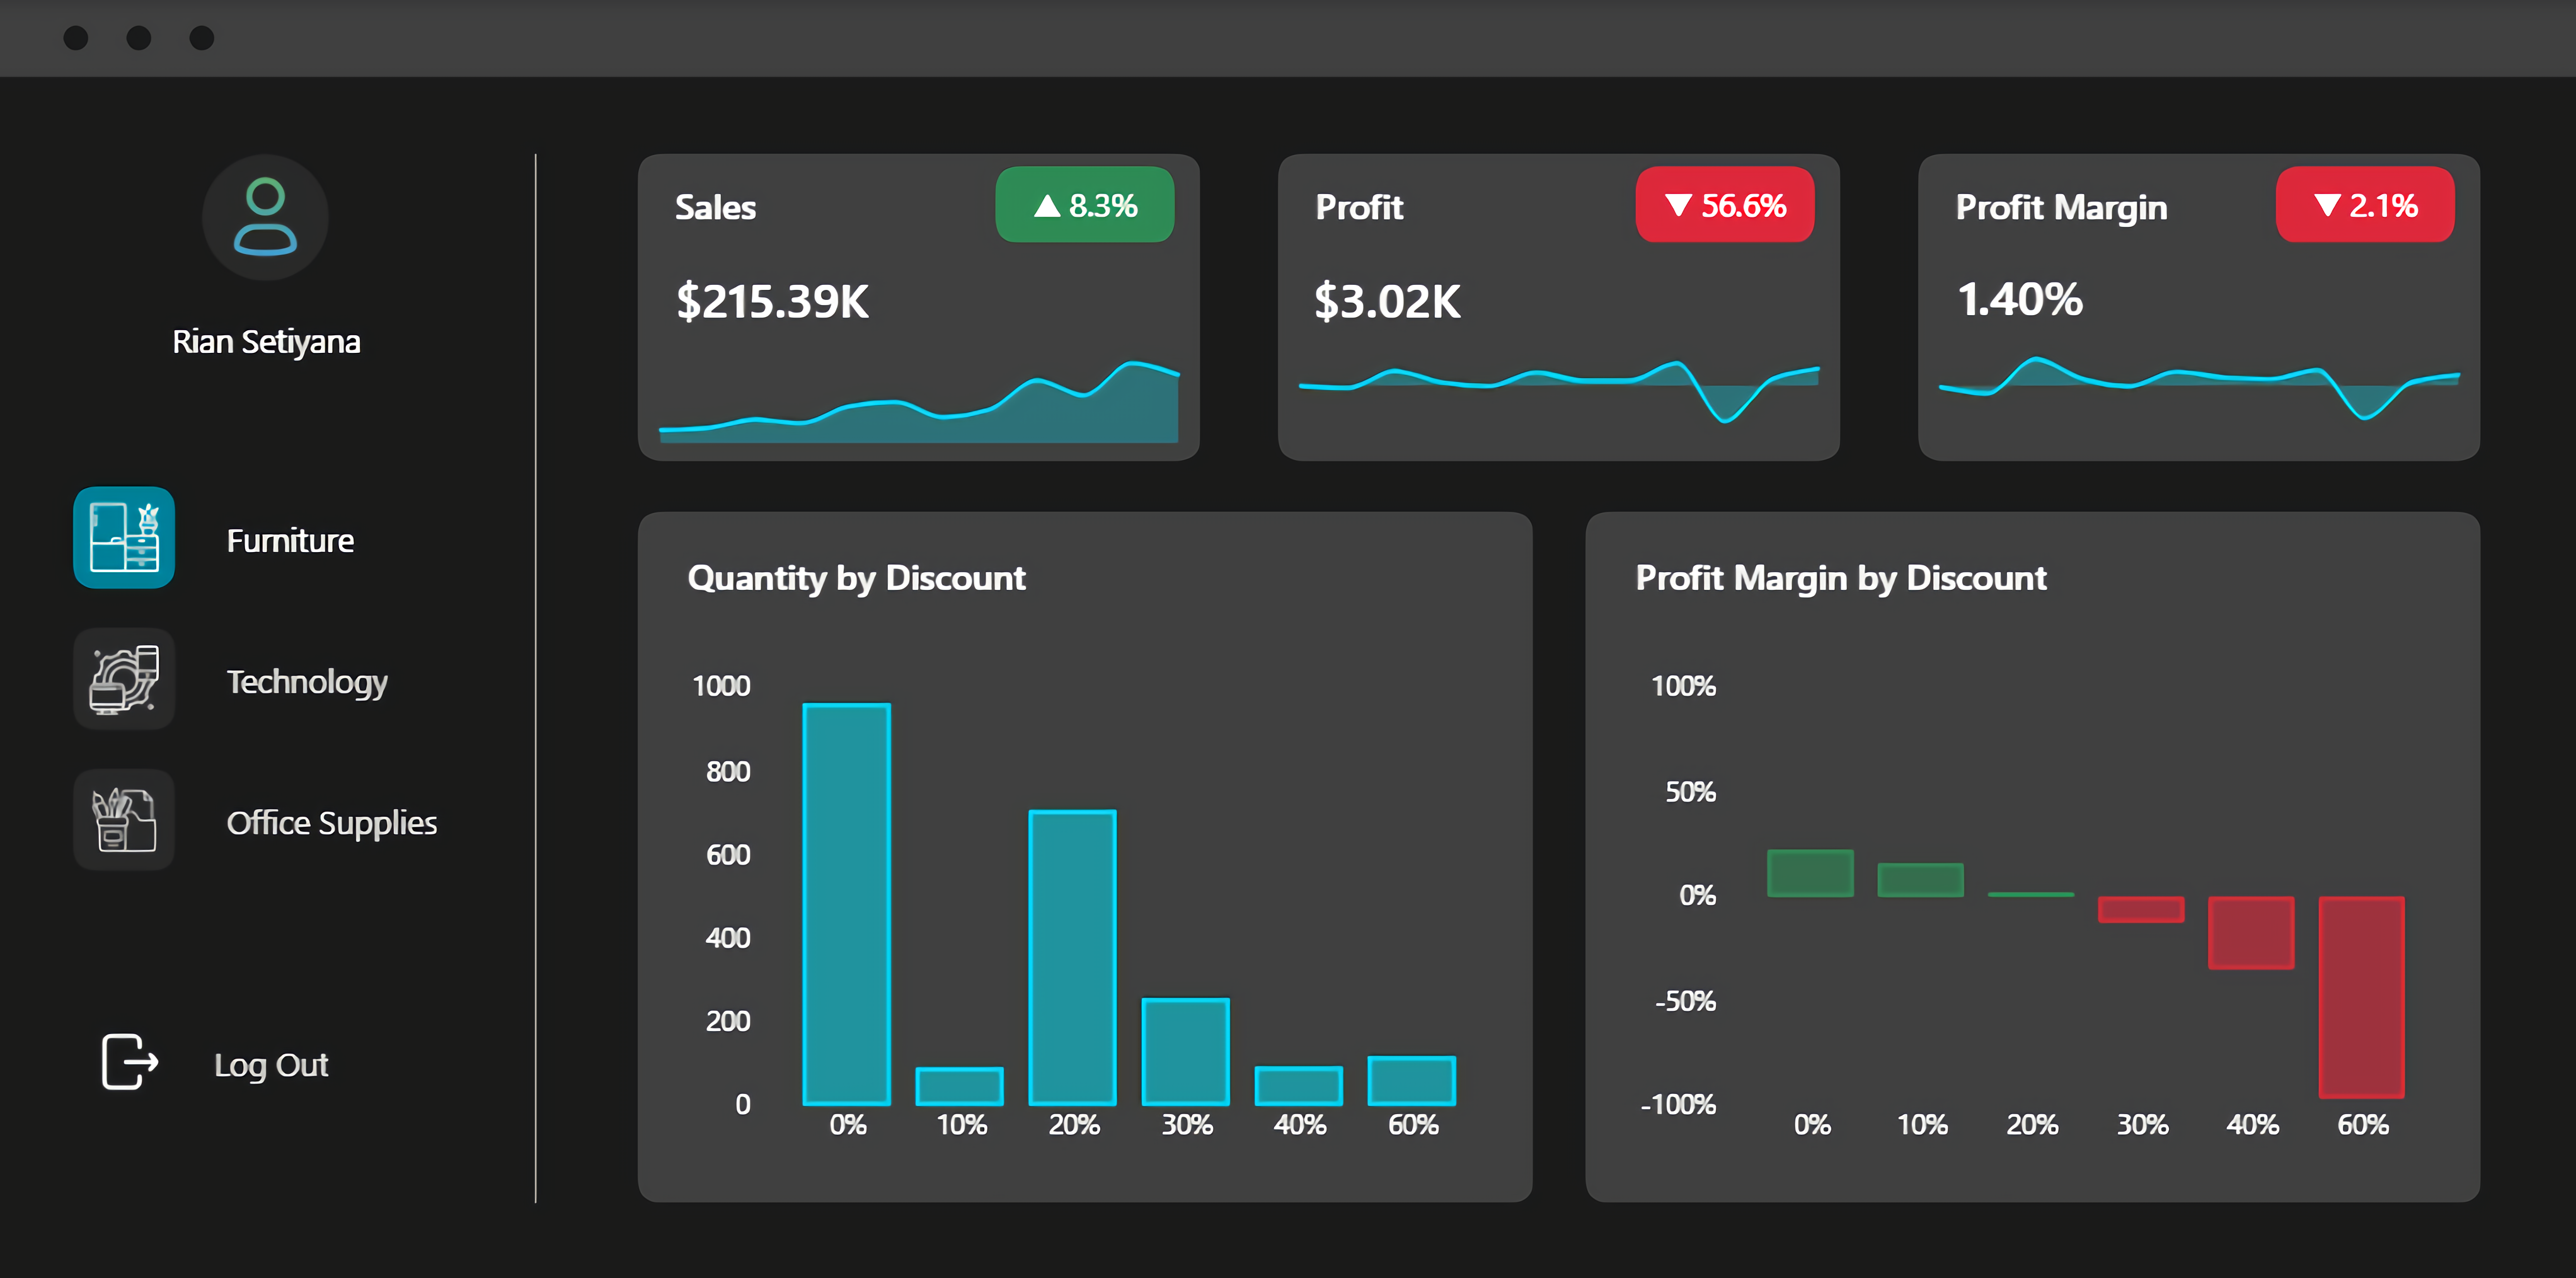

Layout of this report page (visuals, bound fields, positions):
{"tool":"powerbi","page":{"name":"My Dashboard","canvas":[3225,1600],"ordinal":0},"visuals":[{"type":"group","id":"g1","title":"Furniture","box":[-7,0,3232,1504],"z":0},{"type":"group","id":"g2","title":"Top Header","box":[-7,0,3232,96],"z":0,"group":"g1"},{"type":"shape","title":"Background","box":[-7,0,3232,96],"z":0,"group":"g2"},{"type":"shape","title":"Background","box":[256,192,160,160],"z":0,"group":"g5"},{"type":"group","id":"g3","title":"Sales","box":[800,192,704,384],"z":0,"group":"g12"},{"type":"shape","title":"Background","box":[800,192,704,384],"z":0,"group":"g3"},{"type":"shape","title":"Background","box":[1600,192,704,384],"z":0,"group":"g6"},{"type":"shape","title":"Background","box":[2400,192,704,384],"z":0,"group":"g10"},{"type":"group","id":"g4","title":"Furniture","box":[80,608,528,128],"z":0,"group":"g9"},{"type":"shape","title":"Background","box":[96,608,128,128],"z":0,"group":"g4"},{"type":"shape","title":"Background","box":[800,640,1120,864],"z":0,"group":"g7"},{"type":"shape","title":"Background","box":[1984,640,1120,864],"z":0,"group":"g13"},{"type":"shape","title":"Background","box":[96,784,128,128],"z":0,"group":"g8"},{"type":"shape","title":"Background","box":[96,960,128,128],"z":0,"group":"g11"},{"type":"image","title":"Icon","box":[128,1280,80,96],"z":0,"group":"g14"},{"type":"shape","title":"Circle","box":[80,32,32,32],"z":1000,"group":"g2"},{"type":"group","id":"g5","title":"Profile","box":[192,184,288,280],"z":1000,"group":"g1"},{"type":"image","title":"Profile Picture","box":[272,184,128,176],"z":1000,"group":"g5"},{"type":"group","id":"g6","title":"Profit","box":[1600,192,704,384],"z":1000,"group":"g12"},{"type":"shape","title":"Title","box":[848,208,304,96],"z":1000,"group":"g3"},{"type":"shape","title":"Title","box":[1648,208,304,96],"z":1000,"group":"g6"},{"type":"shape","title":"Title","box":[2448,208,304,96],"z":1000,"group":"g10"},{"type":"image","title":"Icon","box":[80,624,160,96],"z":1000,"group":"g4"},{"type":"group","id":"g7","title":"Quantity Bar","box":[800,640,1120,864],"z":1000},{"type":"shape","title":"Title","box":[864,672,496,96],"z":1000,"group":"g7"},{"type":"shape","title":"Title","box":[2048,672,640,96],"z":1000,"group":"g13"},{"type":"group","id":"g8","title":"Technology","box":[96,784,512,128],"z":1000,"group":"g9"},{"type":"image","title":"Icon","box":[112,792,96,112],"z":1000,"group":"g8"},{"type":"image","title":"Icon","box":[96,976,128,96],"z":1000,"group":"g11"},{"type":"shape","title":"Title","box":[272,1264,320,128],"z":1000,"group":"g14"},{"type":"shape","title":"Circle","box":[160,32,32,32],"z":2000,"group":"g2"},{"type":"group","id":"g9","title":"Navigation","box":[80,192,656,1312],"z":2000,"group":"g1"},{"type":"group","id":"g10","title":"Profit Margin","box":[2400,192,704,384],"z":2000,"group":"g12"},{"type":"card","title":"Card","fields":{"Values":["Measure.profit_margin_furniture_2017"]},"box":[2408,296,240,144],"z":2000,"group":"g10"},{"type":"card","title":"Card","fields":{"Values":["Measure.sales_furniture_2017"]},"box":[800,304,336,128],"z":2000,"group":"g3"},{"type":"card","title":"Card","fields":{"Values":["Measure.profit_furniture_2017"]},"box":[1600,304,272,128],"z":2000,"group":"g6"},{"type":"shape","title":"Name","box":[192,384,288,80],"z":2000,"group":"g5"},{"type":"shape","title":"Title","box":[288,608,320,128],"z":2000,"group":"g4"},{"type":"shape","title":"Title","box":[288,784,320,128],"z":2000,"group":"g8"},{"type":"clusteredColumnChart","title":"Bar Chart","fields":{"Category":["superstore.discount_text"],"Y":["Measure.quantity_furniture_2017"]},"box":[864,832,1024,608],"z":2000},{"type":"group","id":"g11","title":"Office Supplies","box":[96,960,512,128],"z":2000,"group":"g9"},{"type":"shape","title":"Title","box":[288,960,320,128],"z":2000,"group":"g11"},{"type":"shape","title":"Circle","box":[240,32,32,32],"z":3000,"group":"g2"},{"type":"group","id":"g12","title":"KPI","box":[800,192,2304,384],"z":3000,"group":"g1"},{"type":"shape","title":"Background-CF","box":[1248,208,224,96],"z":3000,"group":"g3"},{"type":"shape","title":"Background-CF","box":[2048,208,224,96],"z":3000,"group":"g6"},{"type":"shape","title":"Background-CF","box":[2848,208,224,96],"z":3000,"group":"g10"},{"type":"group","id":"g13","title":"Profit Margin Bar","box":[1984,640,1120,864],"z":3000},{"type":"group","id":"g14","title":"Log Out","box":[128,1264,464,128],"z":3000,"group":"g9"},{"type":"shape","title":"Line","box":[608,192,128,1312],"z":4000,"group":"g9"},{"type":"card","title":"vs PY","fields":{"Values":["Measure.sales_furniture_PY"]},"box":[1248,224,224,64],"z":4000,"group":"g3"},{"type":"card","title":"vs PY","fields":{"Values":["Measure.profit_furniture_PY"]},"box":[2048,224,224,64],"z":4000,"group":"g6"},{"type":"card","title":"vs PY","fields":{"Values":["Measure.profit_margin_furniture_PY"]},"box":[2848,224,224,64],"z":4000,"group":"g10"},{"type":"clusteredColumnChart","title":"Bar Chart","fields":{"Category":["superstore.discount_text"],"Y":["Measure.profit_margin_furniture_2017"]},"box":[2048,832,1024,608],"z":4000},{"type":"lineChart","title":"Line Chart","fields":{"Category":["Date Table.month_short"],"Y":["Measure.sales_furniture_2017"]},"box":[800,432,704,128],"z":5000,"group":"g3"},{"type":"lineChart","title":"Line Chart","fields":{"Category":["Date Table.month_short"],"Y":["Measure.profit_furniture_2017"]},"box":[1600,432,704,128],"z":5000,"group":"g6"},{"type":"lineChart","title":"Line Chart","fields":{"Category":["Date Table.month_short"],"Y":["Measure.profit_margin_furniture_2017"]},"box":[2400,432,704,128],"z":5000,"group":"g10"}]}

Visuals, with their boxes on the page's 3225x1600 design canvas (x1, y1, x2, y2). These are canvas units, not pixel positions in the 2576x1278 screenshot, which may show the page scaled, cropped or inside an application window:
"Furniture" group: select_region(-7, 0, 3225, 1504)
"Top Header" group: select_region(-7, 0, 3225, 96)
"Background" shape: select_region(-7, 0, 3225, 96)
"Background" shape: select_region(256, 192, 416, 352)
"Sales" group: select_region(800, 192, 1504, 576)
"Background" shape: select_region(800, 192, 1504, 576)
"Background" shape: select_region(1600, 192, 2304, 576)
"Background" shape: select_region(2400, 192, 3104, 576)
"Furniture" group: select_region(80, 608, 608, 736)
"Background" shape: select_region(96, 608, 224, 736)
"Background" shape: select_region(800, 640, 1920, 1504)
"Background" shape: select_region(1984, 640, 3104, 1504)
"Background" shape: select_region(96, 784, 224, 912)
"Background" shape: select_region(96, 960, 224, 1088)
"Icon" image: select_region(128, 1280, 208, 1376)
"Circle" shape: select_region(80, 32, 112, 64)
"Profile" group: select_region(192, 184, 480, 464)
"Profile Picture" image: select_region(272, 184, 400, 360)
"Profit" group: select_region(1600, 192, 2304, 576)
"Title" shape: select_region(848, 208, 1152, 304)
"Title" shape: select_region(1648, 208, 1952, 304)
"Title" shape: select_region(2448, 208, 2752, 304)
"Icon" image: select_region(80, 624, 240, 720)
"Quantity Bar" group: select_region(800, 640, 1920, 1504)
"Title" shape: select_region(864, 672, 1360, 768)
"Title" shape: select_region(2048, 672, 2688, 768)
"Technology" group: select_region(96, 784, 608, 912)
"Icon" image: select_region(112, 792, 208, 904)
"Icon" image: select_region(96, 976, 224, 1072)
"Title" shape: select_region(272, 1264, 592, 1392)
"Circle" shape: select_region(160, 32, 192, 64)
"Navigation" group: select_region(80, 192, 736, 1504)
"Profit Margin" group: select_region(2400, 192, 3104, 576)
"Card" card: select_region(2408, 296, 2648, 440)
"Card" card: select_region(800, 304, 1136, 432)
"Card" card: select_region(1600, 304, 1872, 432)
"Name" shape: select_region(192, 384, 480, 464)
"Title" shape: select_region(288, 608, 608, 736)
"Title" shape: select_region(288, 784, 608, 912)
"Bar Chart" clusteredColumnChart: select_region(864, 832, 1888, 1440)
"Office Supplies" group: select_region(96, 960, 608, 1088)
"Title" shape: select_region(288, 960, 608, 1088)
"Circle" shape: select_region(240, 32, 272, 64)
"KPI" group: select_region(800, 192, 3104, 576)
"Background-CF" shape: select_region(1248, 208, 1472, 304)
"Background-CF" shape: select_region(2048, 208, 2272, 304)
"Background-CF" shape: select_region(2848, 208, 3072, 304)
"Profit Margin Bar" group: select_region(1984, 640, 3104, 1504)
"Log Out" group: select_region(128, 1264, 592, 1392)
"Line" shape: select_region(608, 192, 736, 1504)
"vs PY" card: select_region(1248, 224, 1472, 288)
"vs PY" card: select_region(2048, 224, 2272, 288)
"vs PY" card: select_region(2848, 224, 3072, 288)
"Bar Chart" clusteredColumnChart: select_region(2048, 832, 3072, 1440)
"Line Chart" lineChart: select_region(800, 432, 1504, 560)
"Line Chart" lineChart: select_region(1600, 432, 2304, 560)
"Line Chart" lineChart: select_region(2400, 432, 3104, 560)
